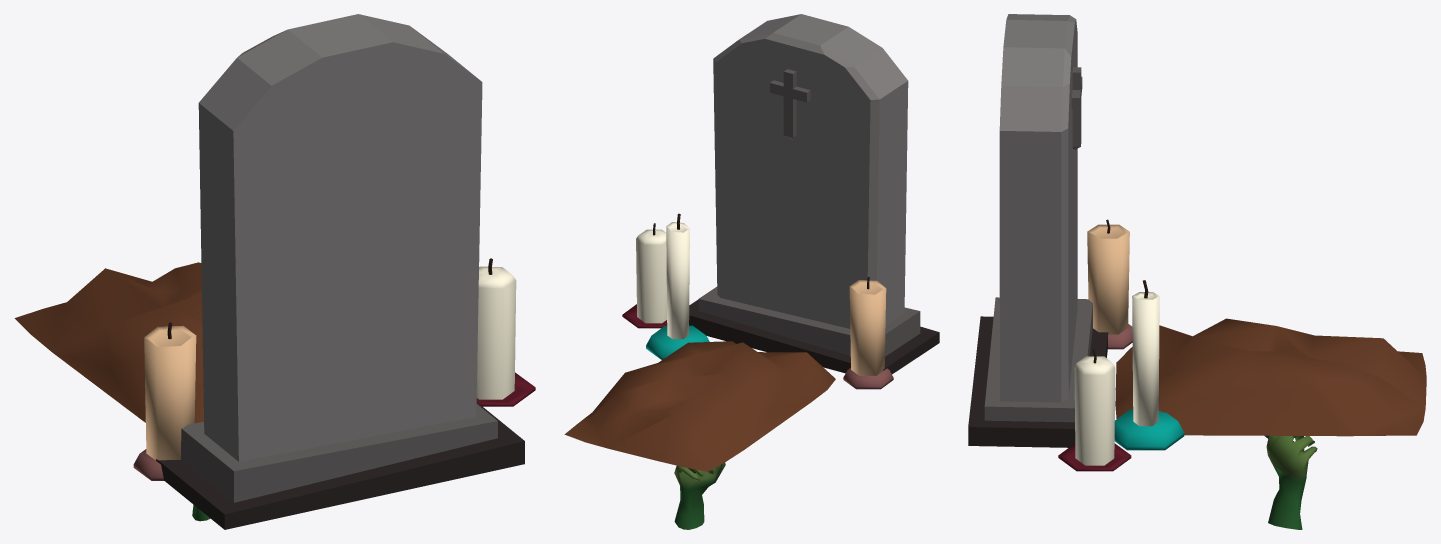
File: crypt_machete.glb
3 views of the same model, side by side, from view 1: azimuth 30°, elevation 25°; view 2: azimuth 150°, elevation 25°; view 3: azimuth 270°, elevation 25° (orthographic). The views are drawn at different scales.
Visible parts, largest first — view 1: Cript_0_Mud.012; view 2: Cript_0_Mud.012, Zombie_Hand; view 3: Cript_0_Mud.012, Zombie_Hand.
Boxes of the visible parts, x1,y1,x2,y2 form: Cript_0_Mud.012: (14, 14, 535, 529); Cript_0_Mud.012: (564, 14, 939, 471); Zombie_Hand: (674, 462, 725, 529); Cript_0_Mud.012: (968, 14, 1426, 471); Zombie_Hand: (1264, 435, 1317, 529).
Size of the model in its own units: 1.74 by 2.66 by 2.26.
3 materials, 3 textured.
